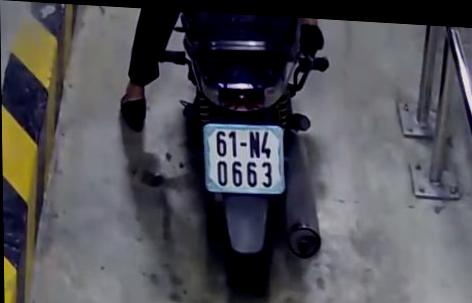License_Plate: (193, 117, 295, 205)
